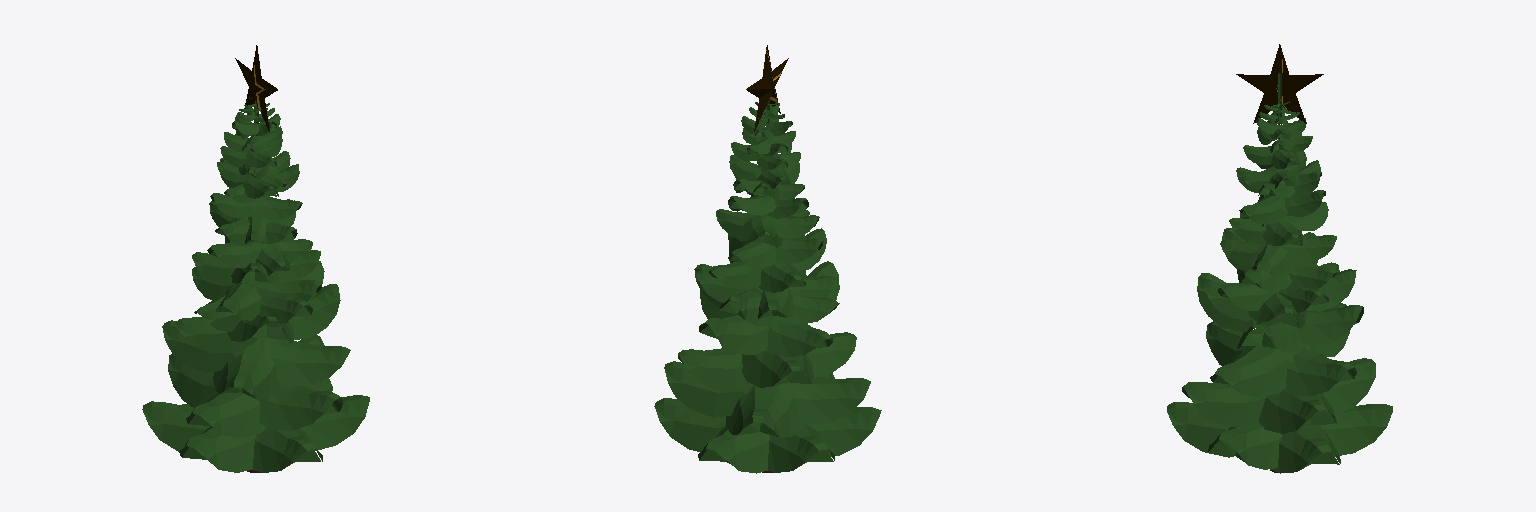
3 renders of one model, left to right at view 1: azimuth 30°, elevation 25°; view 2: azimuth 150°, elevation 25°; view 3: azimuth 270°, elevation 25°, orthographic.
Visible parts, largest first — view 1: Branches1; view 2: Branches1; view 3: Branches1.
Boxes of the visible parts, x1=… form: Branches1: x1=142, y1=45, x2=369, y2=472; Branches1: x1=654, y1=45, x2=881, y2=473; Branches1: x1=1167, y1=44, x2=1392, y2=473.
Size of the model in its own units: 6.97 by 15.59 by 7.53.
4 materials, 3 textured.